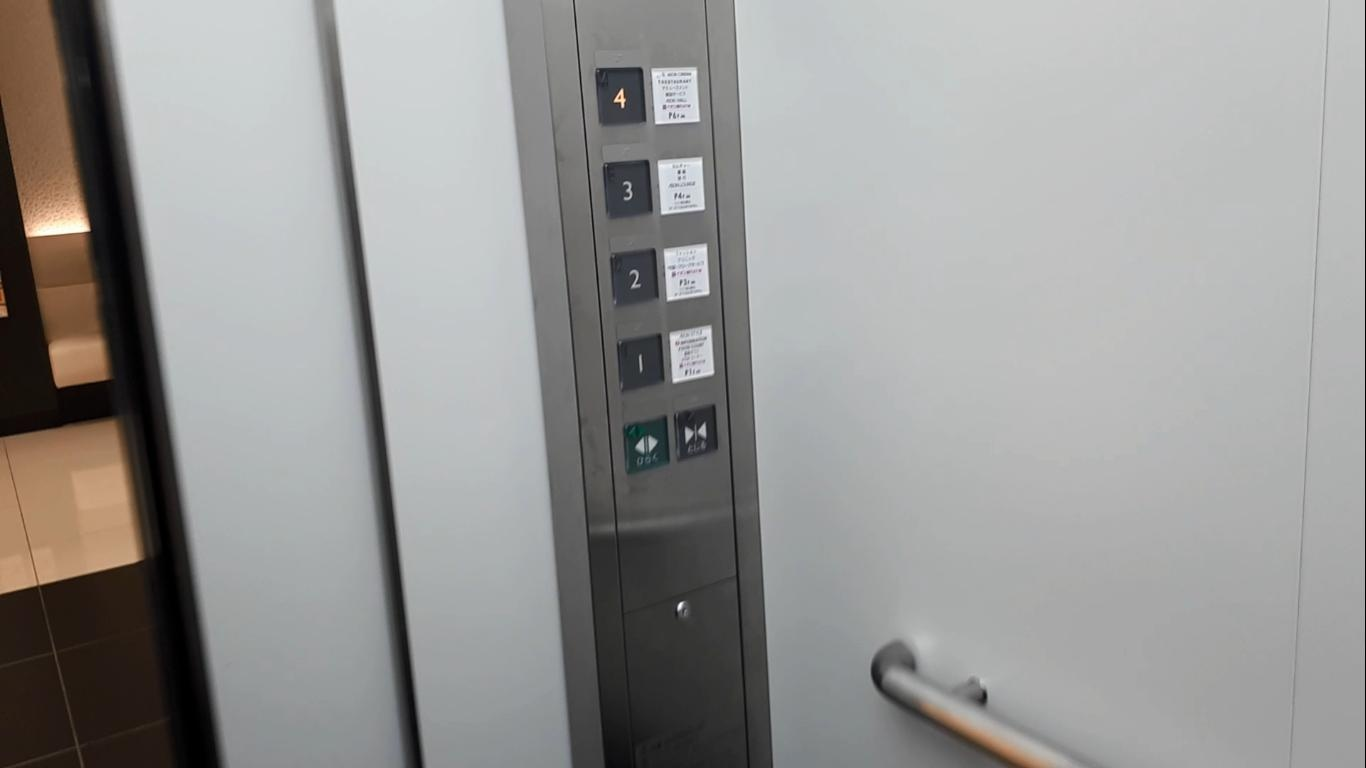1: (616, 331, 666, 393)
2: (609, 248, 659, 306)
3: (602, 160, 653, 218)
4: (594, 67, 646, 125)
close: (671, 403, 720, 462)
open: (622, 414, 671, 473)
